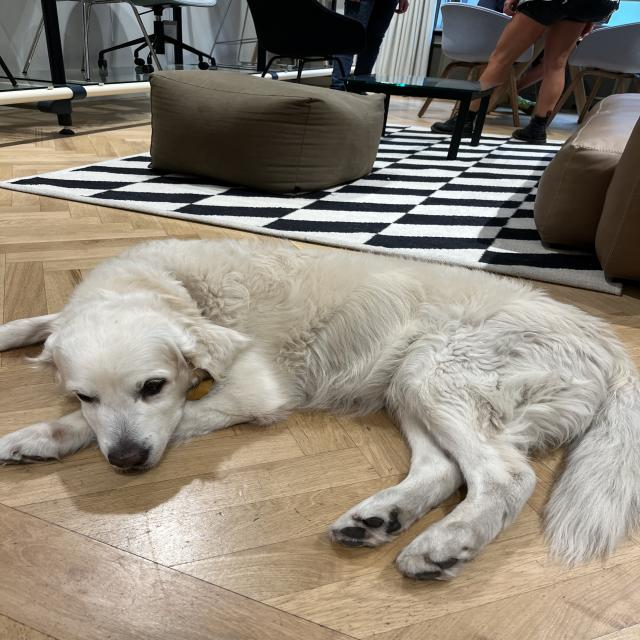dog-retriever: (32, 316, 246, 476)
